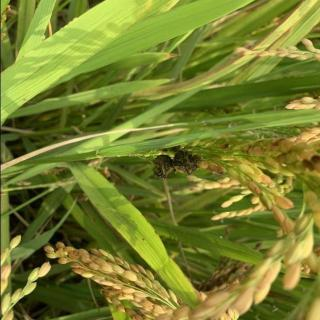Gosong-Palsu: (151, 148, 200, 180)
